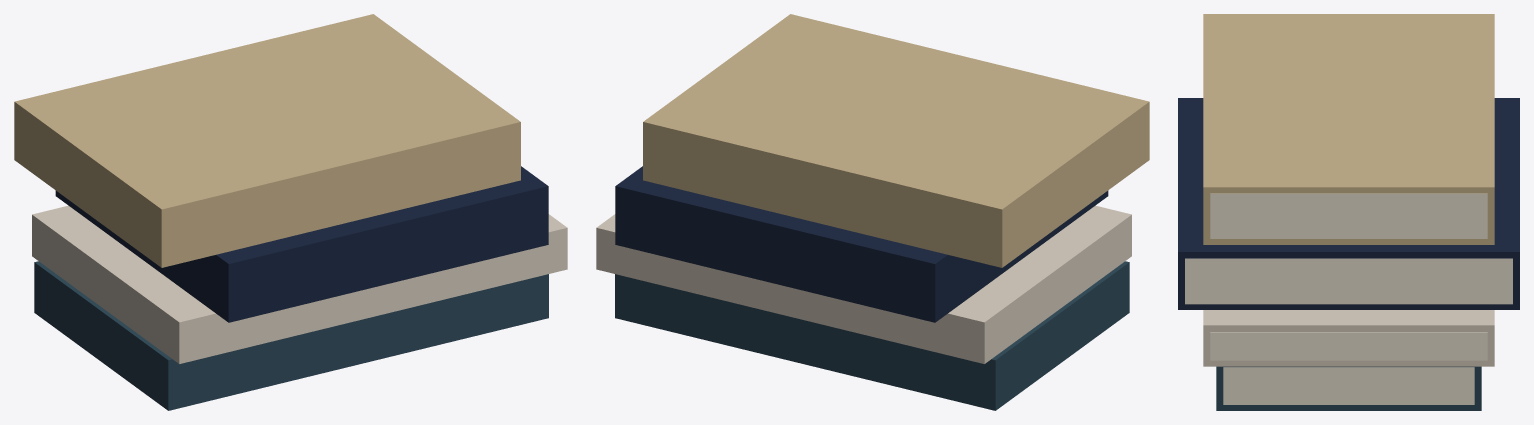
The model's file is HIN-BKS-std.glb.
3 renders of one model, left to right at view 1: azimuth 30°, elevation 25°; view 2: azimuth 150°, elevation 25°; view 3: azimuth 270°, elevation 25°, orthographic.
Parts seen in each view (by area): view 1: HIN-BKS-std; view 2: HIN-BKS-std; view 3: HIN-BKS-std.
Boxes of the visible parts, x1,y1,x2,y2 form: HIN-BKS-std: [14, 14, 567, 410]; HIN-BKS-std: [596, 14, 1149, 410]; HIN-BKS-std: [1178, 14, 1519, 410].
Size of the model in its own units: 0.265 by 0.1305 by 0.1953.
